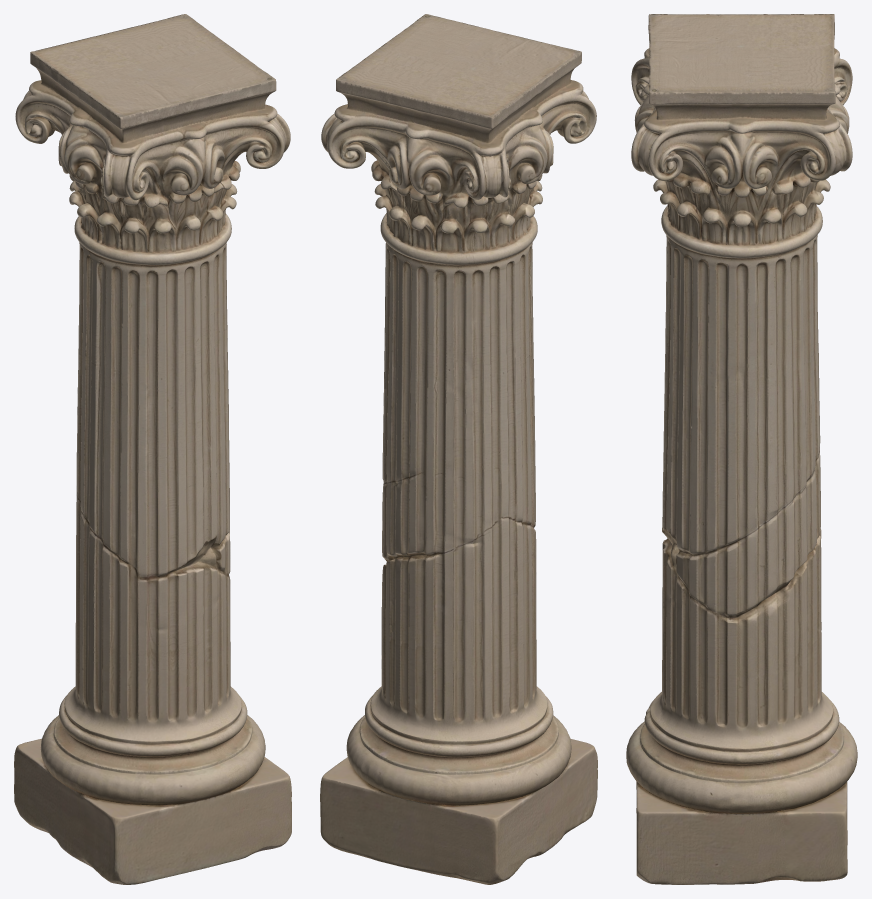
The model's file is tripo_convert_c51f37e2-797c-4072-949a-fb4cd41b40dc.fbx.
The picture shows the model from 3 angles, left to right: view 1: azimuth 30°, elevation 25°; view 2: azimuth 150°, elevation 25°; view 3: azimuth 270°, elevation 25°; orthographic projection. The views are drawn at different scales.
Visible parts, largest first — view 1: tripo_node_c51f37e2; view 2: tripo_node_c51f37e2; view 3: tripo_node_c51f37e2.
Boxes of the visible parts, x1,y1,x2,y2 form: tripo_node_c51f37e2: [14, 14, 291, 884]; tripo_node_c51f37e2: [320, 14, 597, 884]; tripo_node_c51f37e2: [626, 14, 857, 884].
Bounding box in the file's own units: 0.267 × 0.9995 × 0.2661.
Materials: 1 (1 with a texture image).
